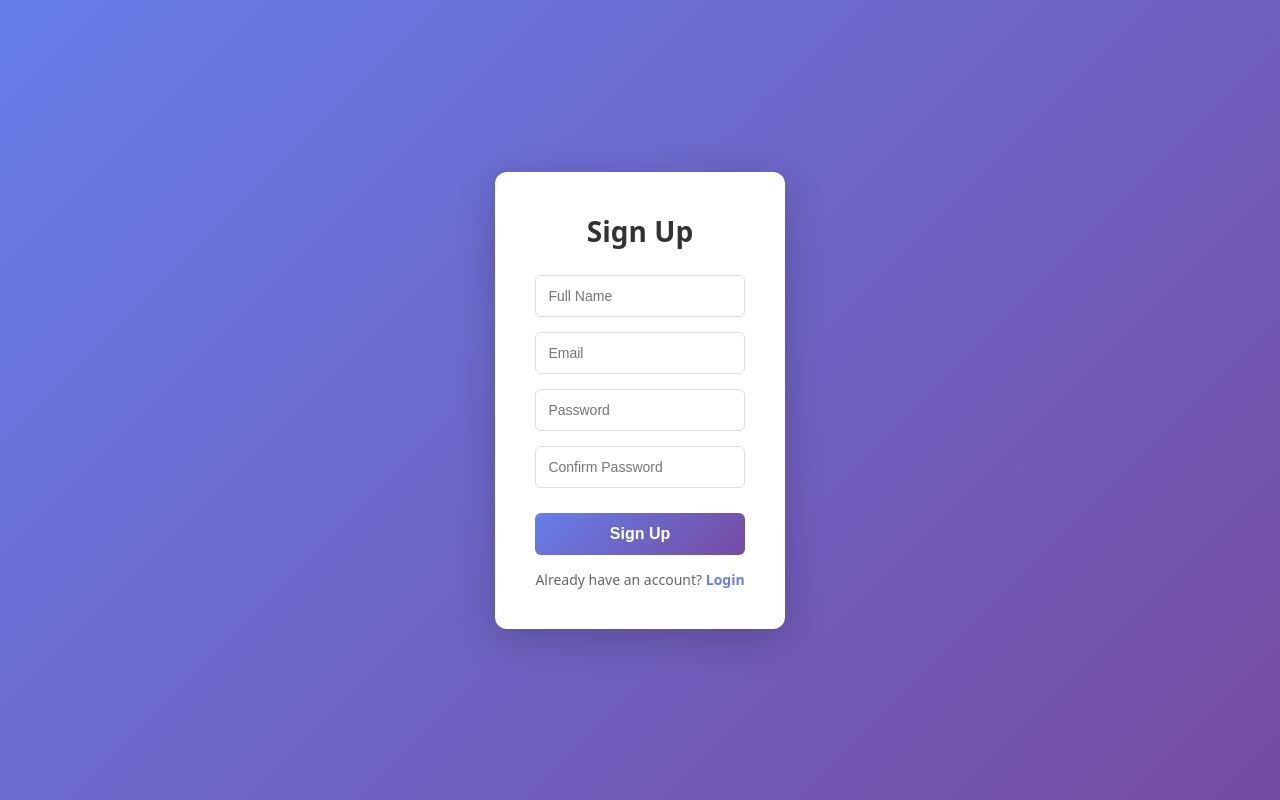
Test: Signup Page (separate file) › shows error when passwords do not match
The image size is (1280, 800).
Type "Alice" into the field with placeholder "Full Name".
click(640, 296); type("Alice")  # box [535,274,745,316]
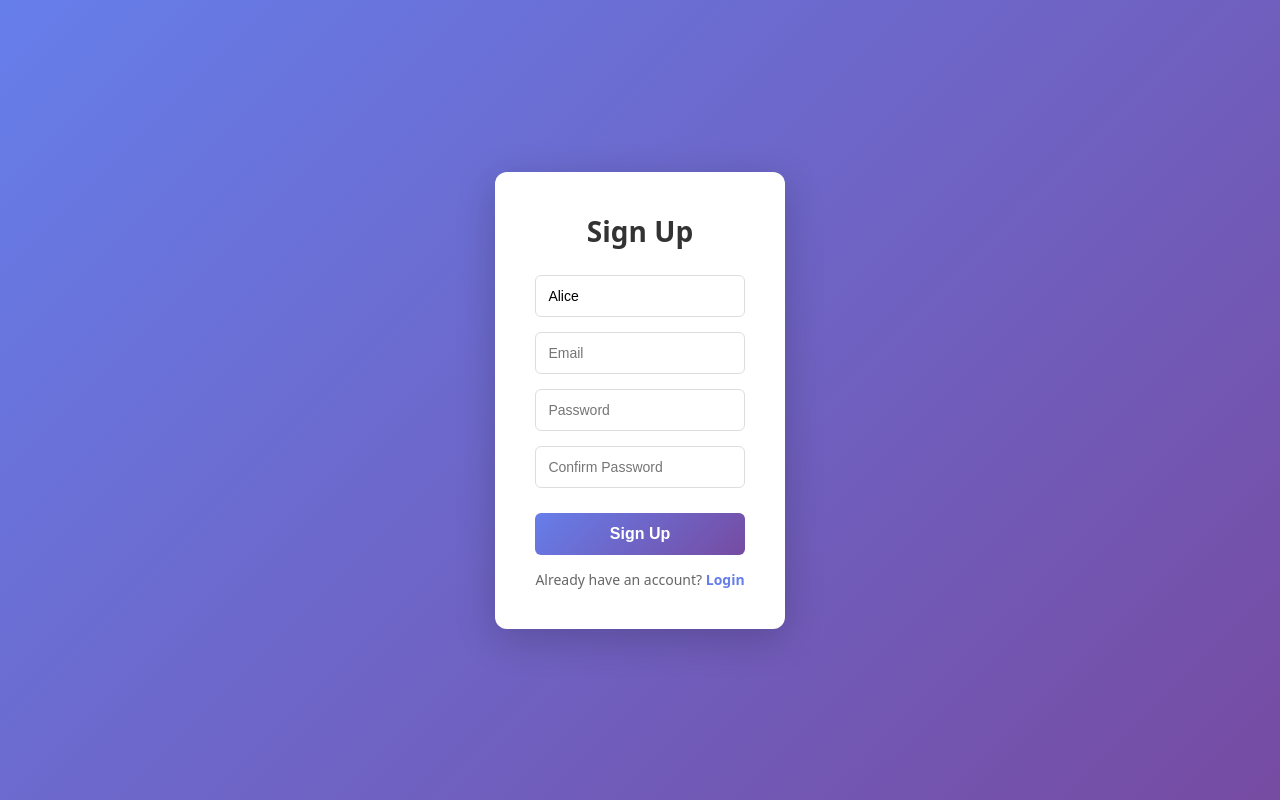
Type "alice@example.com" into the field with placeholder "Email".
click(640, 352); type("alice@example.com")  # box [535,332,745,374]
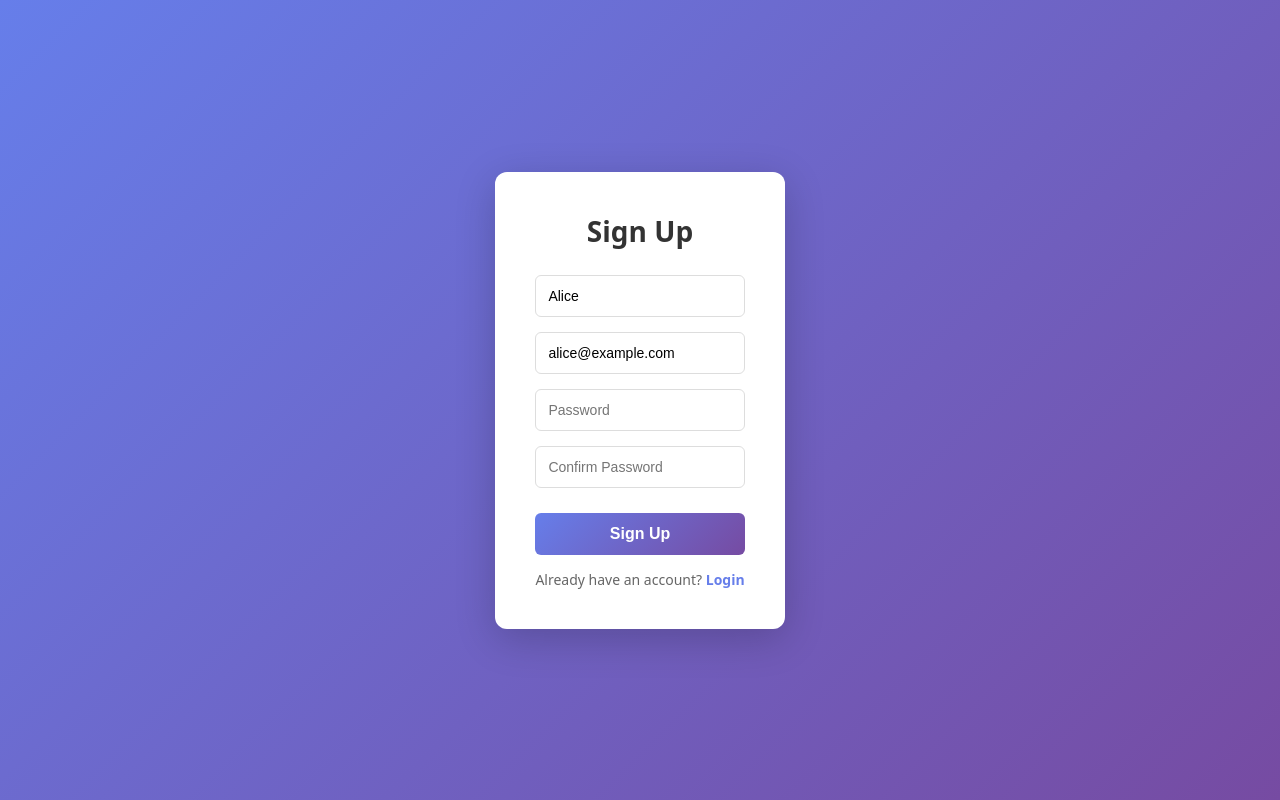
Type "password1" into the password field with placeholder "Password".
click(640, 410); type("password1")  # box [535,388,745,430]
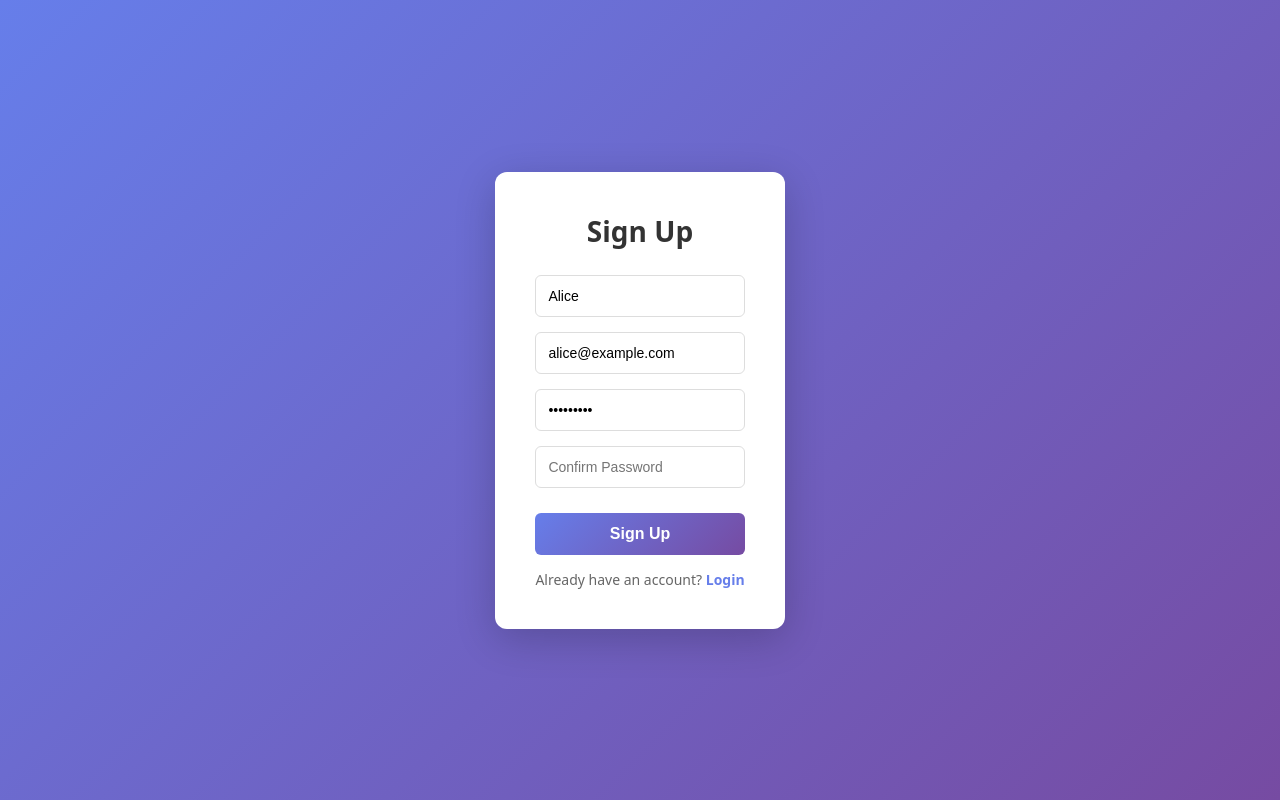
Type "password2" into the password field with placeholder "Confirm Password".
click(640, 466); type("password2")  # box [535,446,745,488]
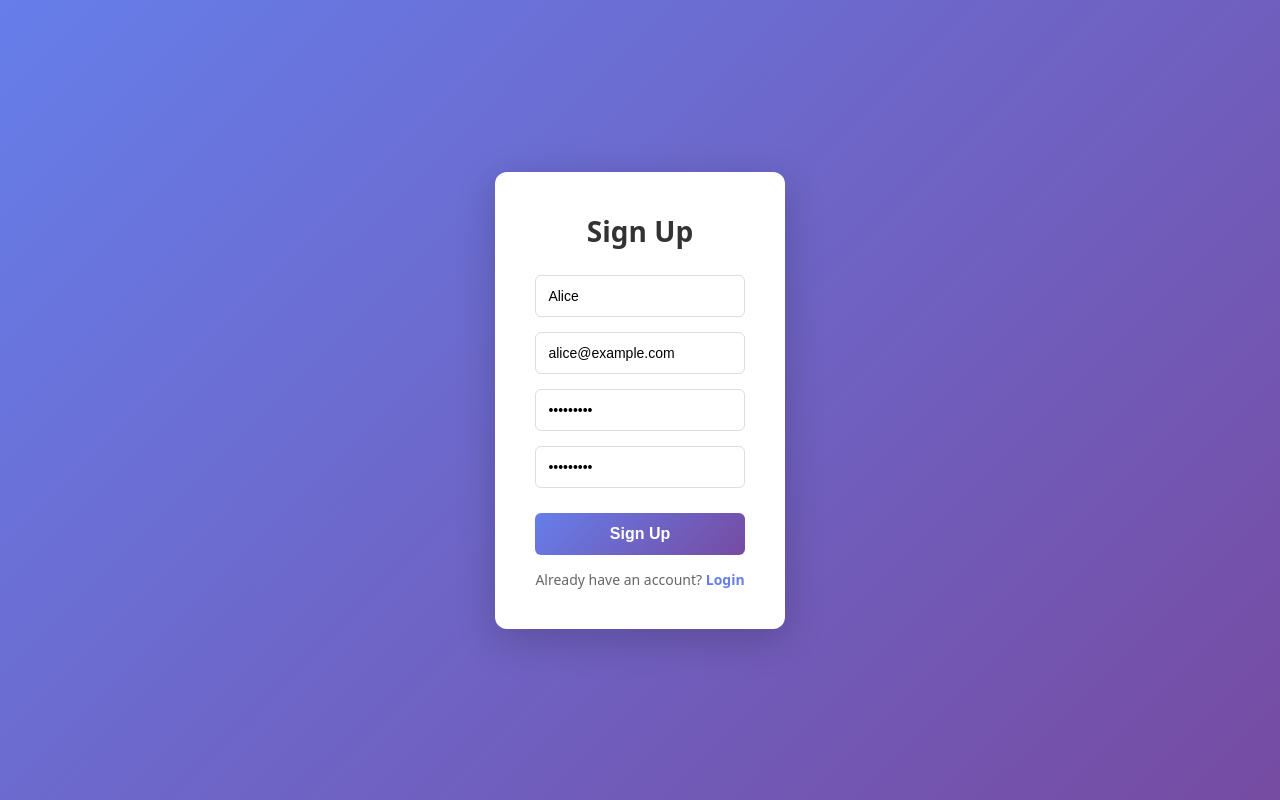
Click the button "Sign Up".
click(640, 534)  # box [535,512,745,554]
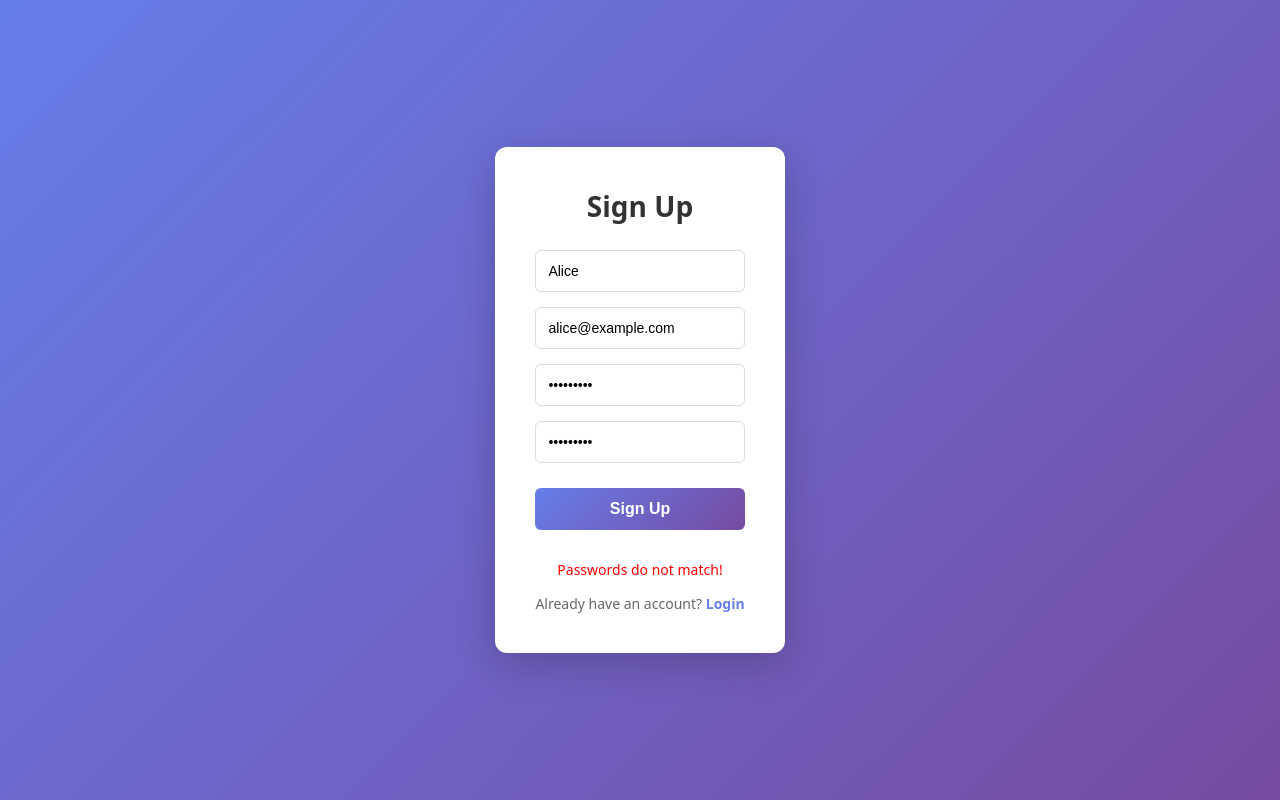
Result: the text "Passwords do not match!" is shown at [557,560,723,579]
